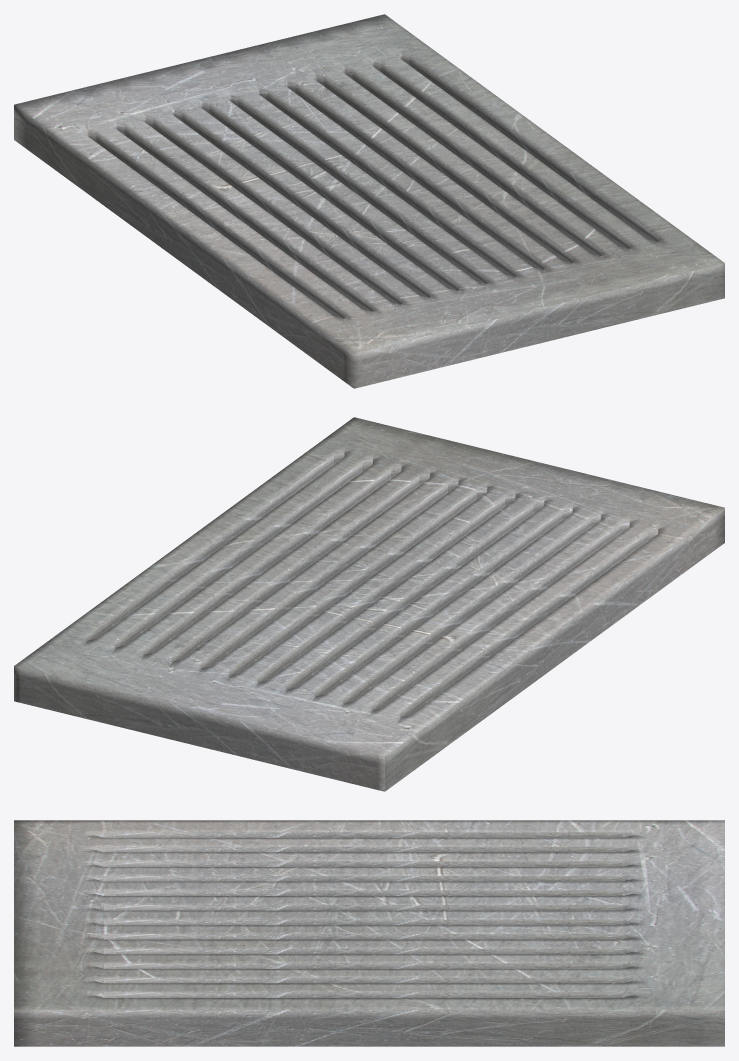
File: iron_grill.glb
3 views of the same model, one above another, from view 1: azimuth 30°, elevation 25°; view 2: azimuth 150°, elevation 25°; view 3: azimuth 270°, elevation 25° (orthographic). The views are drawn at different scales.
Parts seen in each view (by area): view 1: IronGrill-col; view 2: IronGrill-col; view 3: IronGrill-col.
Part boxes in pixels (x1,y1,x2,y2): IronGrill-col: (14,14,724,388); IronGrill-col: (14,417,724,791); IronGrill-col: (14,820,724,1046).
Bounding box in the file's own units: 20 × 1.81 × 31.76.
1 material, 1 textured.
